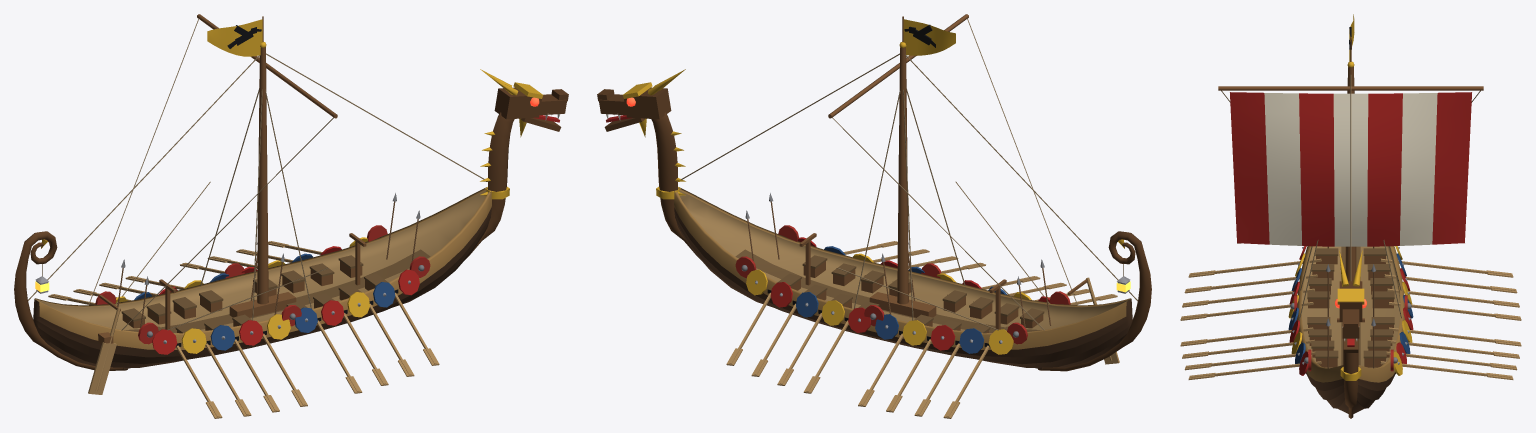
The model's file is longship-boarding-1.glb.
3 renders of one model, left to right at view 1: azimuth 30°, elevation 25°; view 2: azimuth 150°, elevation 25°; view 3: azimuth 270°, elevation 25°, orthographic. The views are drawn at different scales.
Visible parts, largest first — view 1: Mesh_DeckAndBulwarks, Mesh_Hull, Mesh_TrimSheerStrake, Mesh_MastPole, Mesh_DragonTail, Mesh_DragonNeck, Mesh_DeckLane, Mesh_Flag_Raven, Mesh_DragonSkull, Mesh_MastFish, Mesh_SteerOarBlade, Mesh_YardArm; view 2: Mesh_DeckAndBulwarks, Mesh_Hull, Mesh_TrimSheerStrake, Mesh_MastPole, Mesh_DragonTail, Mesh_DragonNeck, Mesh_DeckLane, Mesh_Flag_Raven, Mesh_DragonSkull, Mesh_MastFish, Mesh_YardArm; view 3: Mesh_Sail_Main, Mesh_Sail_Stripe1, Mesh_Sail_Stripe2, Mesh_Sail_Stripe0, Mesh_Sail_Stripe3, Mesh_DeckAndBulwarks, Mesh_TrimSheerStrake, Mesh_Hull, Mesh_YardArm, Mesh_DragonNeck, Mesh_MastPole, Mesh_OarR0Loom (+20 smaller).
Boxes of the visible parts, box(x1,y1,x2,y2) form: Mesh_DeckAndBulwarks: box(35, 190, 486, 330); Mesh_Hull: box(33, 207, 491, 367); Mesh_TrimSheerStrake: box(34, 187, 491, 349); Mesh_MastPole: box(257, 47, 268, 304); Mesh_DragonTail: box(14, 231, 127, 370); Mesh_DragonNeck: box(465, 112, 514, 259); Mesh_DeckLane: box(124, 249, 430, 332); Mesh_Flag_Raven: box(207, 19, 262, 56); Mesh_DragonSkull: box(494, 87, 541, 119); Mesh_MastFish: box(229, 292, 296, 317); Mesh_SteerOarBlade: box(88, 342, 116, 394); Mesh_YardArm: box(197, 14, 337, 118); Mesh_DeckAndBulwarks: box(679, 190, 1130, 330); Mesh_Hull: box(674, 207, 1132, 367); Mesh_TrimSheerStrake: box(674, 187, 1131, 349); Mesh_MastPole: box(897, 47, 908, 304); Mesh_DragonTail: box(1038, 231, 1151, 371); Mesh_DragonNeck: box(651, 112, 700, 259); Mesh_DeckLane: box(735, 249, 1041, 332); Mesh_Flag_Raven: box(903, 19, 955, 55); Mesh_DragonSkull: box(624, 87, 671, 119); Mesh_MastFish: box(869, 292, 936, 317); Mesh_YardArm: box(828, 14, 968, 118); Mesh_Sail_Main: box(1264, 93, 1437, 246); Mesh_Sail_Stripe1: box(1367, 93, 1402, 246); Mesh_Sail_Stripe2: box(1299, 93, 1334, 246); Mesh_Sail_Stripe0: box(1432, 92, 1471, 244); Mesh_Sail_Stripe3: box(1230, 92, 1269, 244); Mesh_DeckAndBulwarks: box(1301, 246, 1400, 368); Mesh_TrimSheerStrake: box(1297, 246, 1404, 382); Mesh_Hull: box(1306, 372, 1395, 413); Mesh_YardArm: box(1218, 86, 1483, 90); Mesh_DragonNeck: box(1343, 339, 1358, 418); Mesh_MastPole: box(1345, 67, 1356, 281); Mesh_OarR0Loom: box(1188, 258, 1321, 277).
Bounding box in the file's own units: 24.36 × 13.54 × 13.51.
